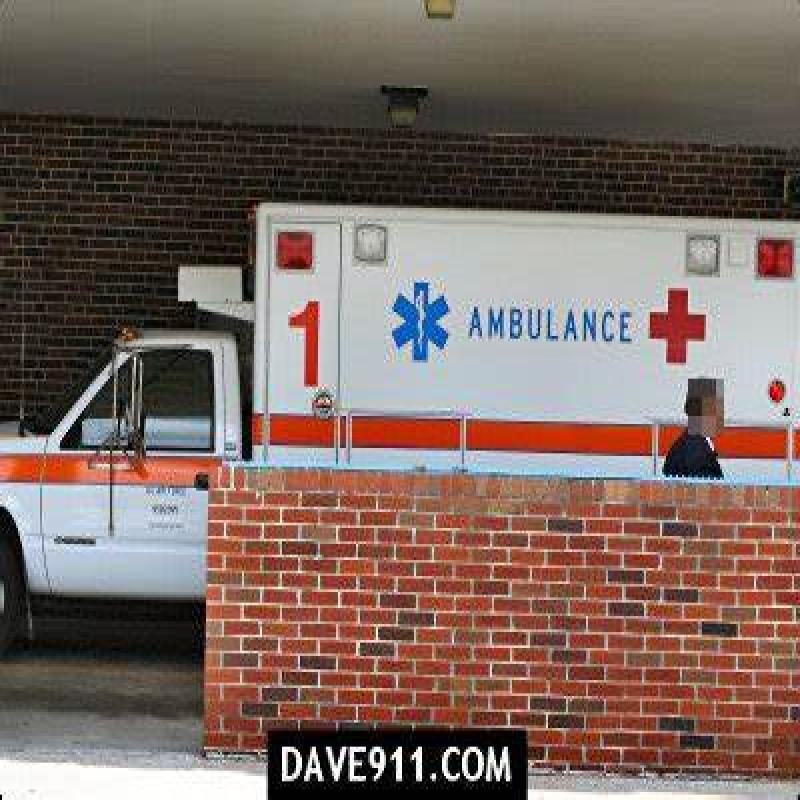AmbulanceSiren: (261, 192, 388, 286), (672, 219, 796, 291)
